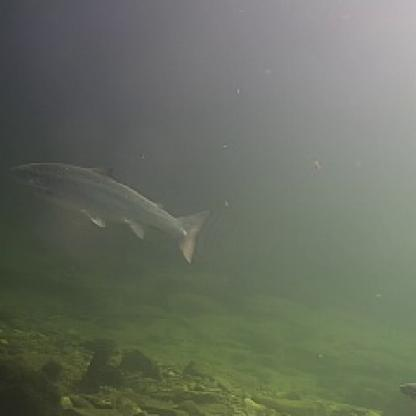salmon: (8, 161, 217, 267)
